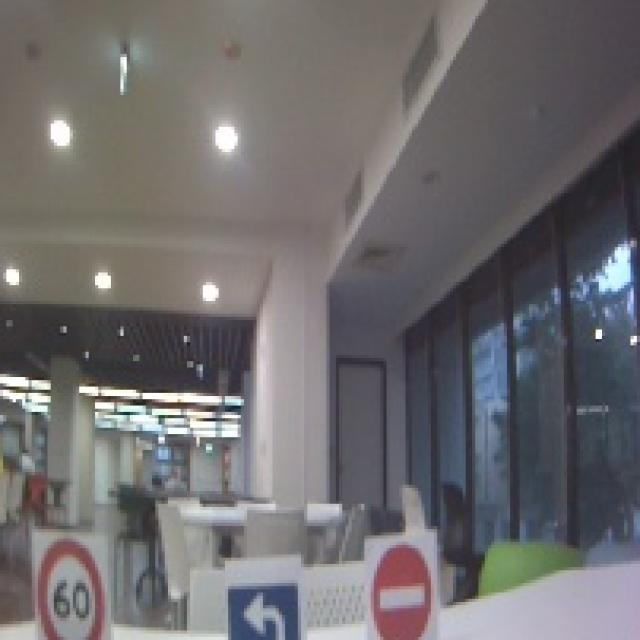DoNotEnterSign: (371, 542, 431, 640)
